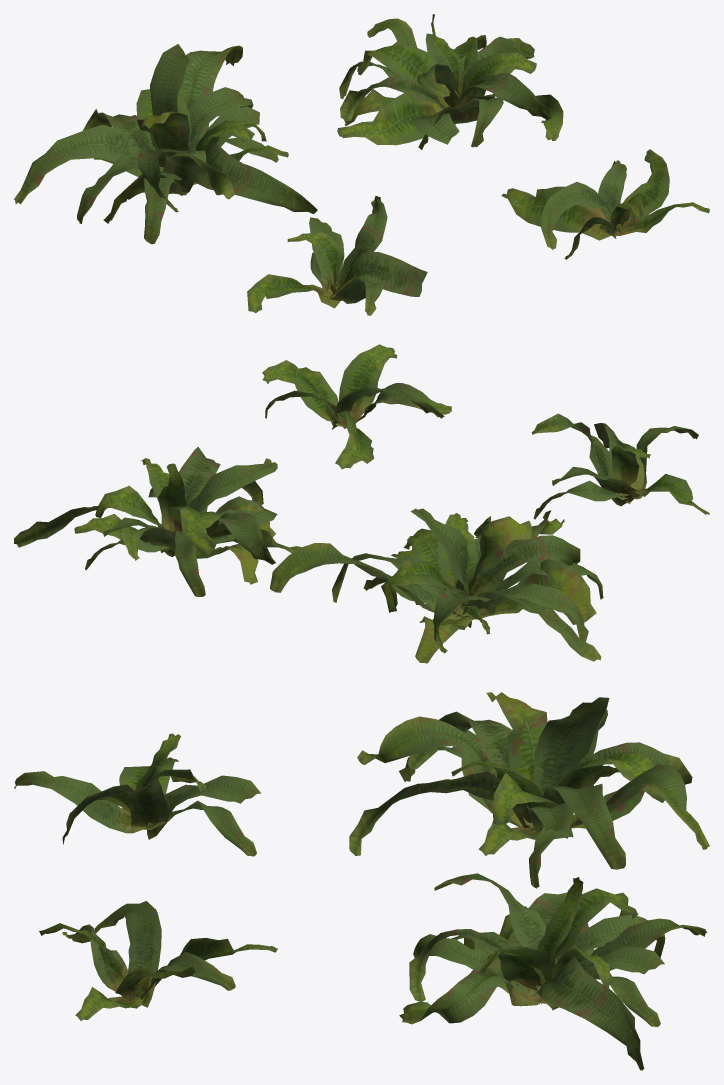
Rendered from fern_02.glb.
The picture shows the model from 3 angles, top to bottom: view 1: azimuth 30°, elevation 25°; view 2: azimuth 150°, elevation 25°; view 3: azimuth 270°, elevation 25°; orthographic projection. The views are drawn at different scales.
Visible parts, largest first — view 1: fern_02_b; view 2: fern_02_b; view 3: fern_02_b.
Part boxes in pixels (x1,y1,x2,y2): fern_02_b: (14,14,709,315); fern_02_b: (14,344,709,663); fern_02_b: (14,692,709,1070).
Size of the model in its own units: 1.97 by 0.4277 by 1.72.
Materials: 1 (1 with a texture image).
